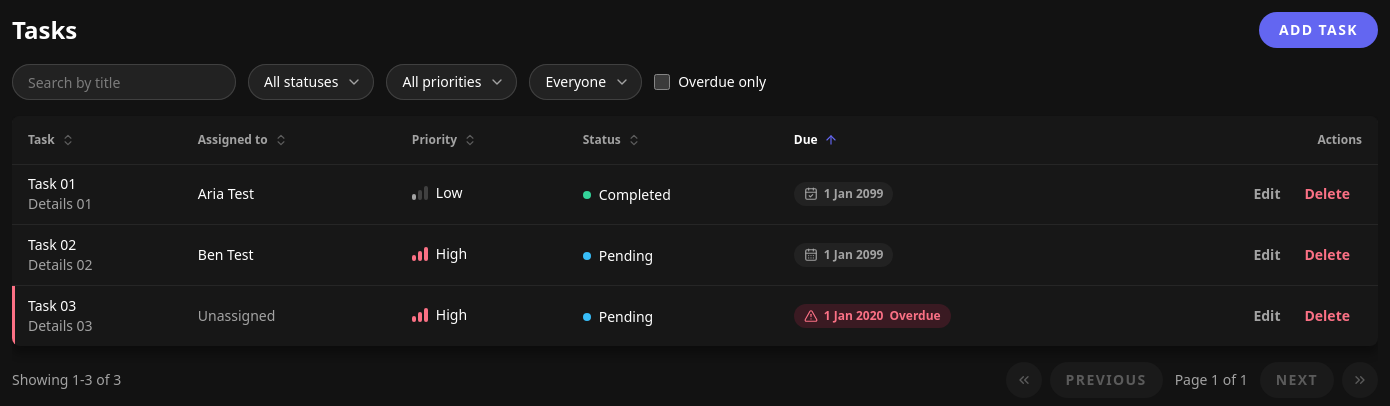
Test: TasksPage: filters › filters by employee, and by "Unassigned"
Expected: the text "Task 01" is shown, [28,174,76,193]
Click the dropdown named "Filter by assignee" at (586, 82), box [529,64,642,100]
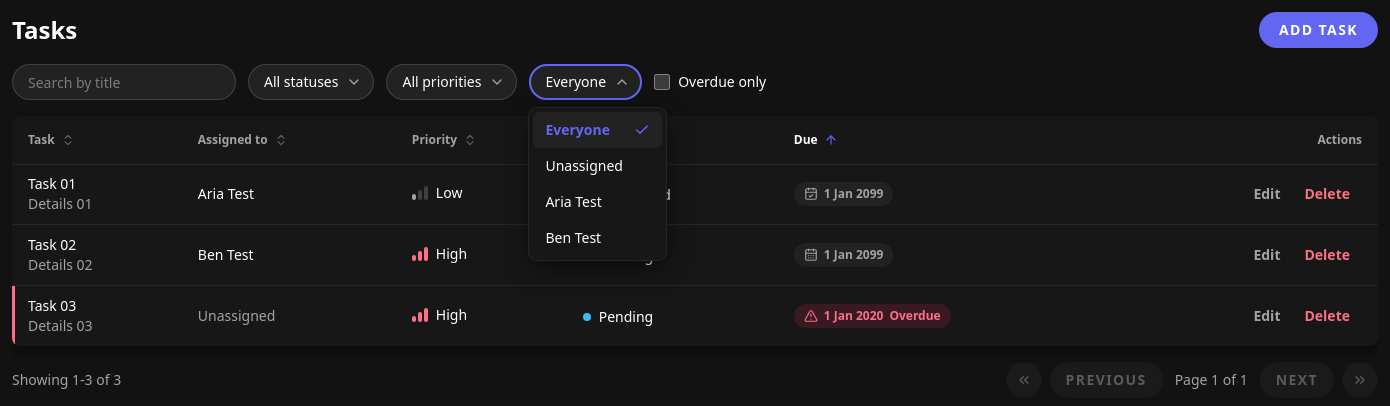
Click the option "Ben Test" at (573, 238), box [545,228,601,247]
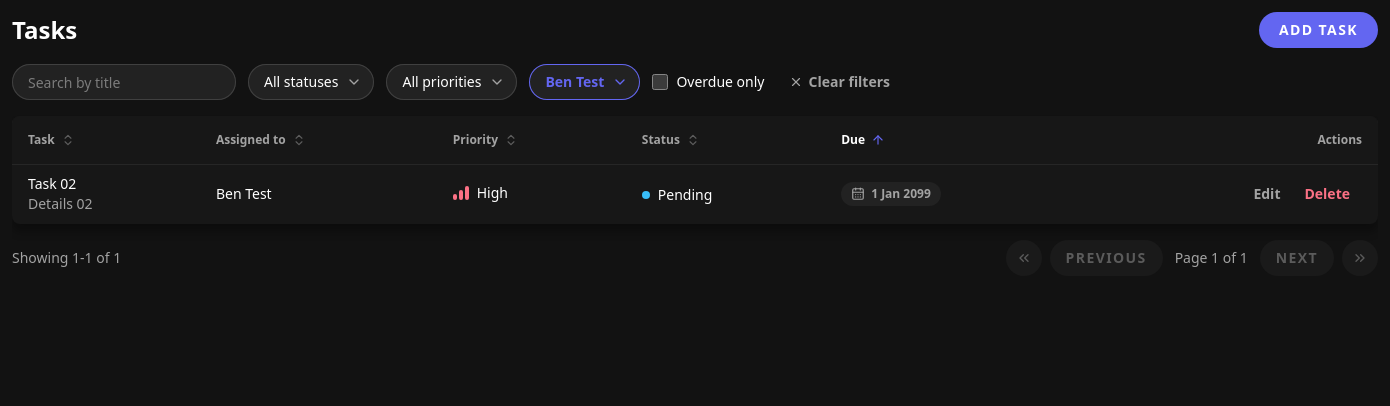
Expected: the text "Task 02" is shown, [28,174,76,193]
Click the dropdown named "Filter by assignee" at (585, 82), box [529,64,640,100]
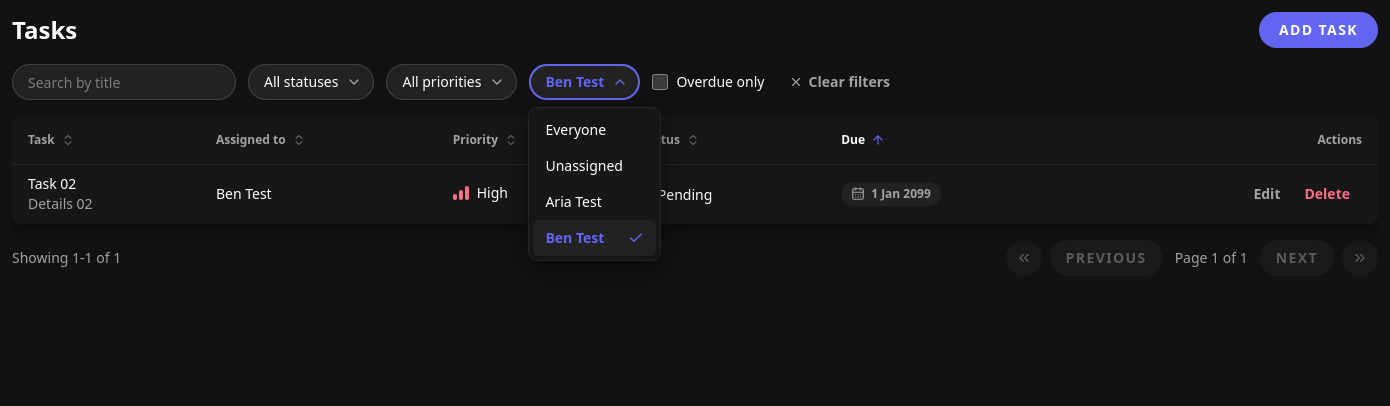
Click the option "Unassigned" at (584, 166), box [545,156,623,175]
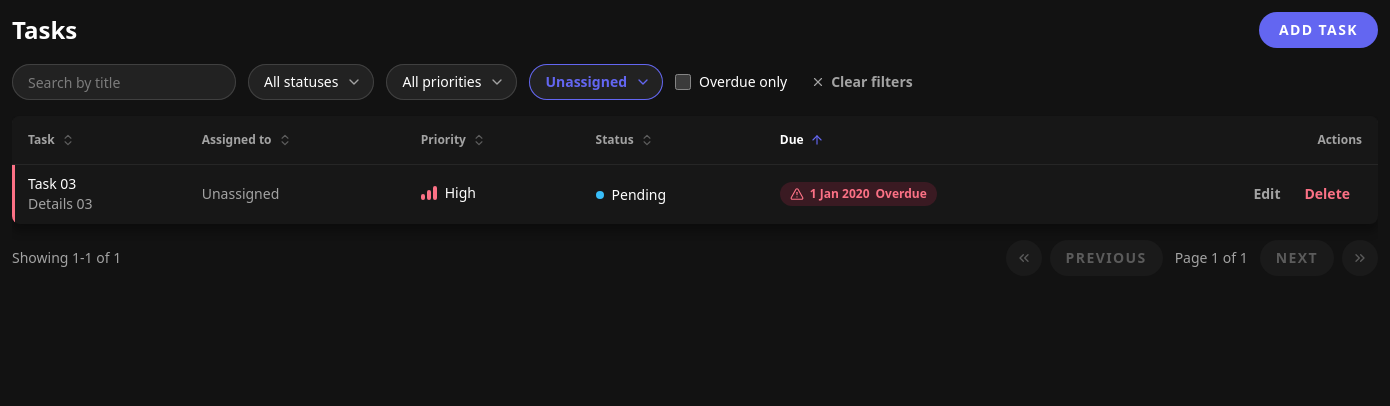
Expected: the text "Task 03" is shown, [28,174,76,193]
